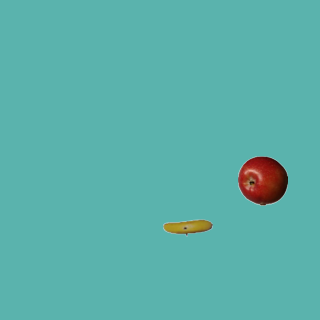Apple Braeburn: (237, 155, 287, 205)
Banana: (162, 202, 212, 252)
